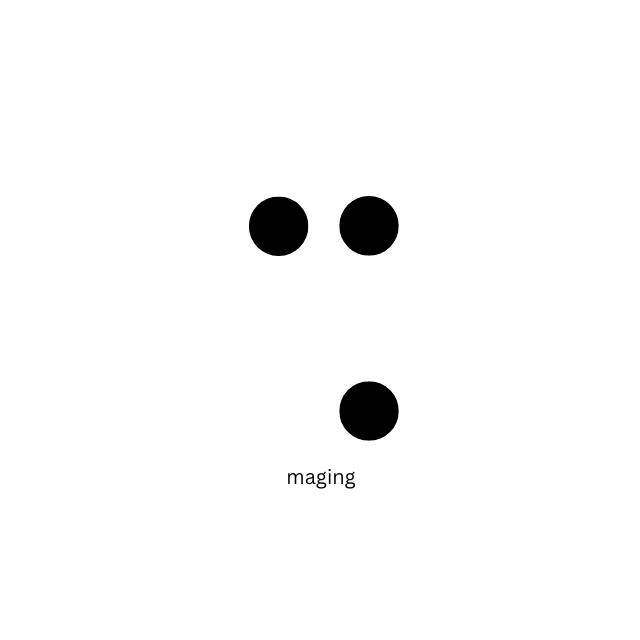one_cell_non_alphabet_maging: (246, 194, 402, 443)
